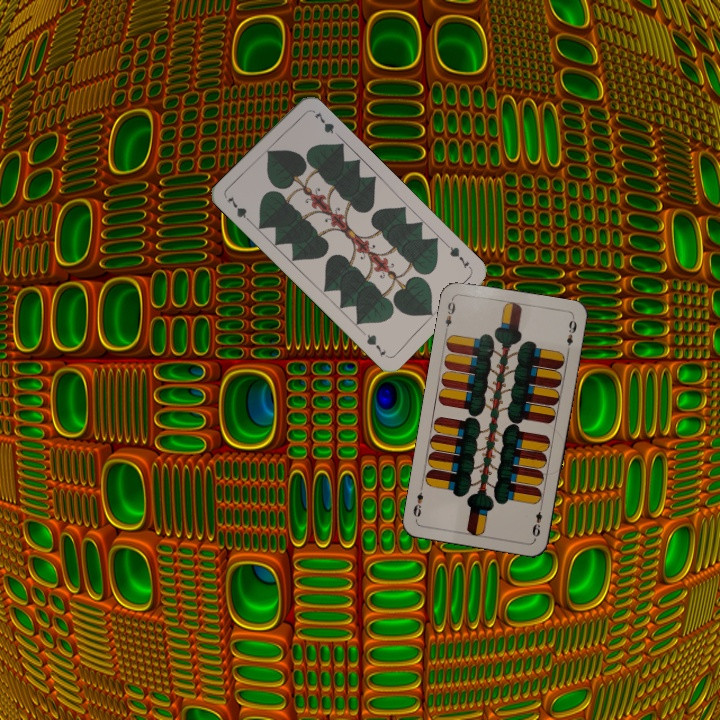E9: (441, 295, 458, 335), (528, 501, 545, 539)
G7: (223, 191, 255, 226), (443, 240, 474, 273)
